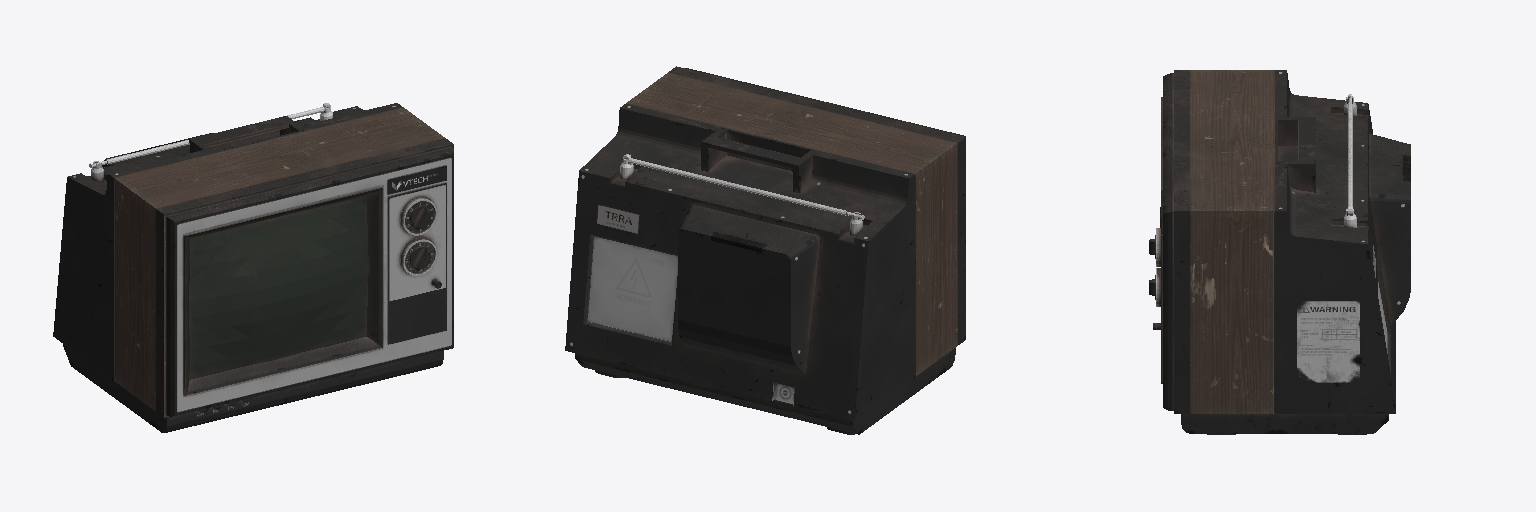
3 renders of one model, left to right at view 1: azimuth 30°, elevation 25°; view 2: azimuth 150°, elevation 25°; view 3: azimuth 270°, elevation 25°, orthographic.
Parts seen in each view (by area): view 1: Television_01_Cube.021; view 2: Television_01_Cube.021; view 3: Television_01_Cube.021.
Part boxes in pixels (bbox=[...]): Television_01_Cube.021: bbox=[53, 103, 453, 432]; Television_01_Cube.021: bbox=[565, 66, 965, 434]; Television_01_Cube.021: bbox=[1149, 70, 1410, 434].
Size of the model in its own units: 0.6 by 0.4568 by 0.4708.
Materials: 1 (1 with a texture image).